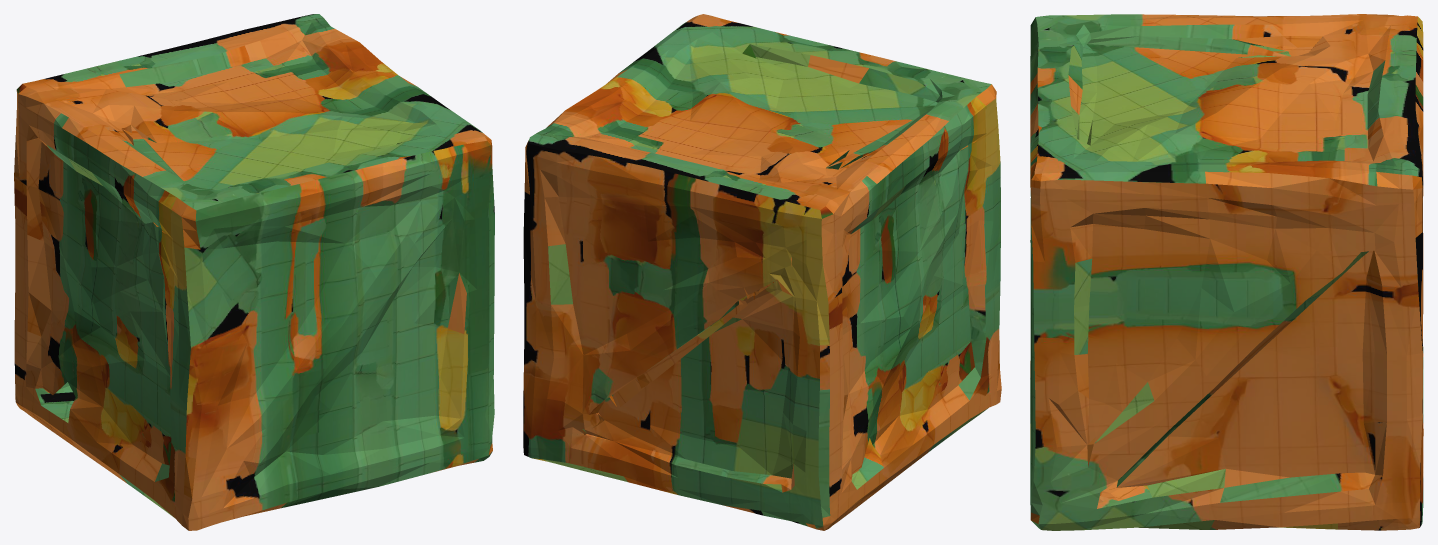
The model's file is Crate 2.obj.
3 views of the same model, side by side, from view 1: azimuth 30°, elevation 25°; view 2: azimuth 150°, elevation 25°; view 3: azimuth 270°, elevation 25° (orthographic). The views are drawn at different scales.
Visible parts, largest first — view 1: tripo_node_4bf5bb5e-c35f-473f-b1ab-dfebb7b3334d; view 2: tripo_node_4bf5bb5e-c35f-473f-b1ab-dfebb7b3334d; view 3: tripo_node_4bf5bb5e-c35f-473f-b1ab-dfebb7b3334d.
Boxes of the visible parts, x1=… form: tripo_node_4bf5bb5e-c35f-473f-b1ab-dfebb7b3334d: x1=14, y1=14, x2=494, y2=530; tripo_node_4bf5bb5e-c35f-473f-b1ab-dfebb7b3334d: x1=523, y1=14, x2=1001, y2=530; tripo_node_4bf5bb5e-c35f-473f-b1ab-dfebb7b3334d: x1=1030, y1=14, x2=1423, y2=530.
Size of the model in its own units: 0.9995 by 0.9995 by 0.9992.
